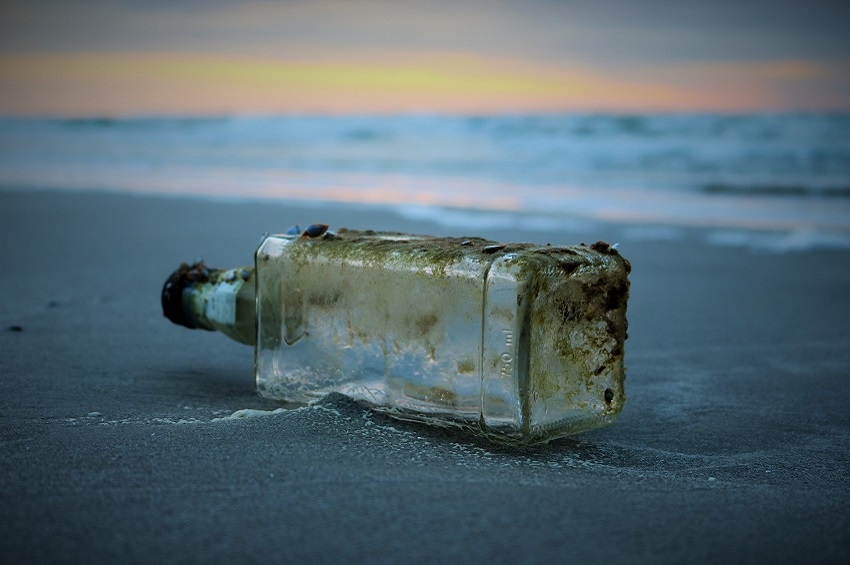glass_bottle: (149, 210, 638, 457)
